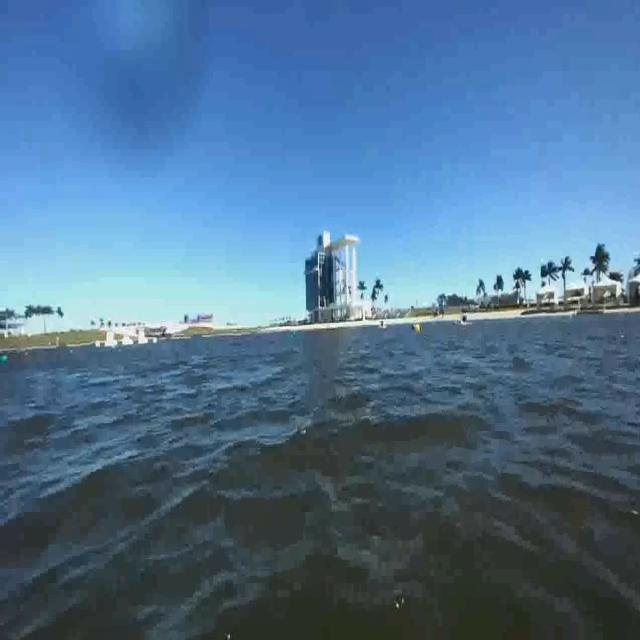green-buoy: (0, 356, 10, 364)
yellow-buoy: (416, 322, 422, 333)
